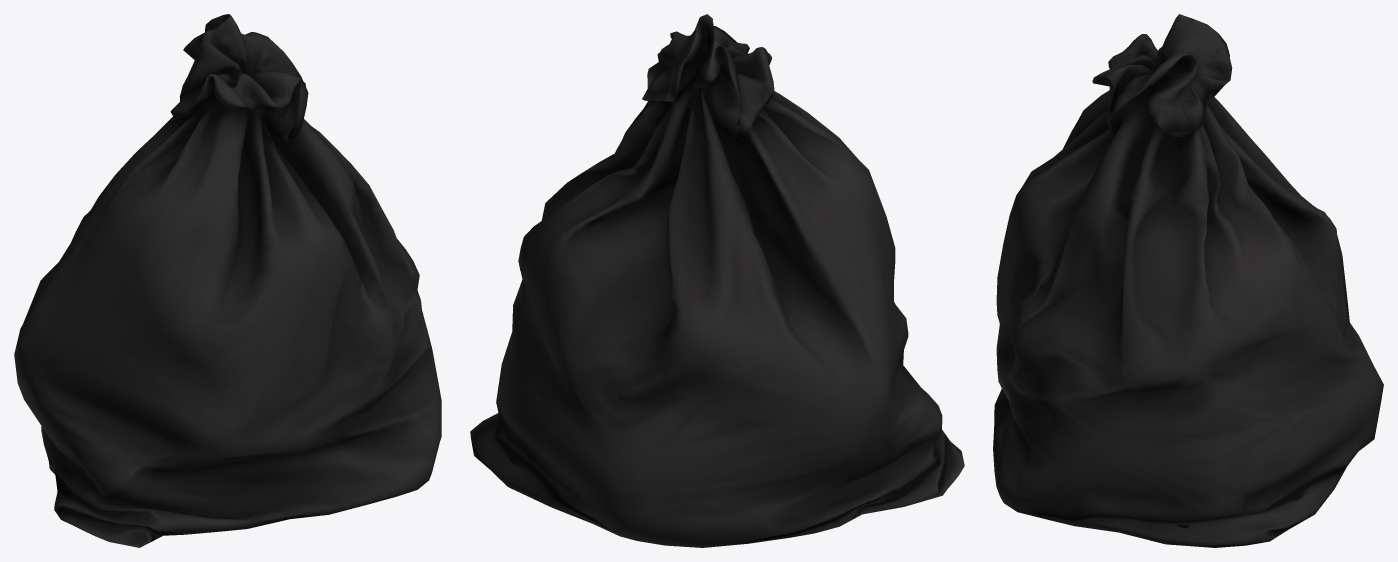
Rendered from Trashbag_1.gltf.
3 views of the same model, side by side, from view 1: azimuth 30°, elevation 25°; view 2: azimuth 150°, elevation 25°; view 3: azimuth 270°, elevation 25° (orthographic). The views are drawn at different scales.
Visible parts, largest first — view 1: Trashbag_1(Clone); view 2: Trashbag_1(Clone); view 3: Trashbag_1(Clone).
Part boxes in pixels (x1,y1,x2,y2): Trashbag_1(Clone): (14,14,441,547); Trashbag_1(Clone): (470,14,964,547); Trashbag_1(Clone): (993,14,1383,547).
Size of the model in its own units: 1.07 by 1.12 by 0.9066.
Materials: 1 (1 with a texture image).
